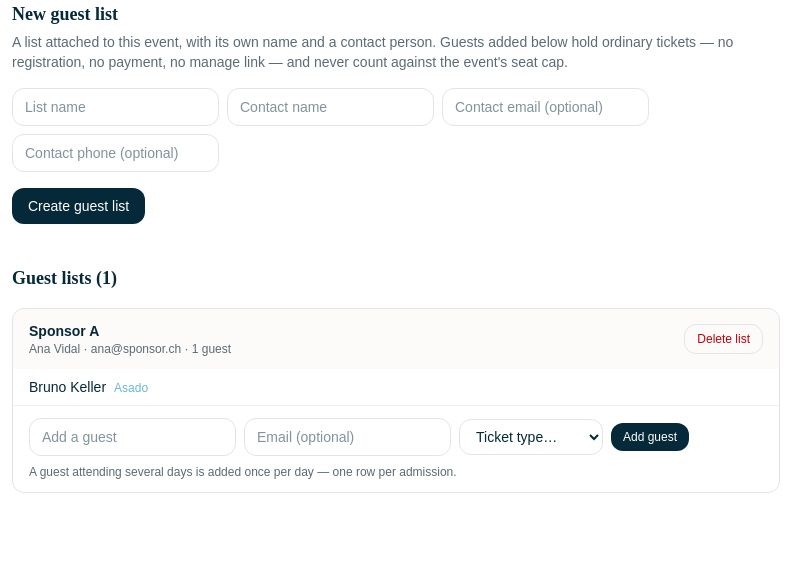
GuestList — deleting a list › renders the server's refusal when the list has a checked-in guest
Click the button "Delete list". click: (724, 339)
box: left=684, top=324, right=763, bottom=354
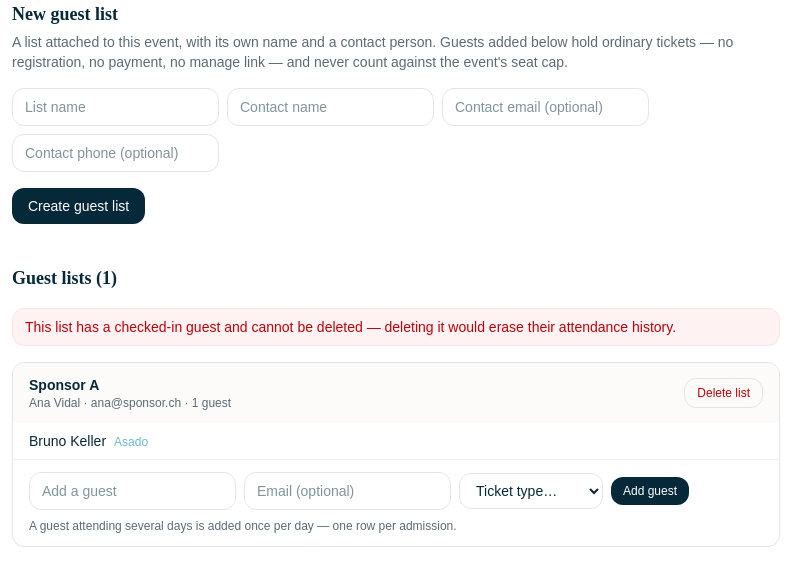
Check: the text "This list has a checked-in guest and cannot be deleted — deleting it would erase their attendance history." is shown, box left=25, top=319, right=676, bottom=335
